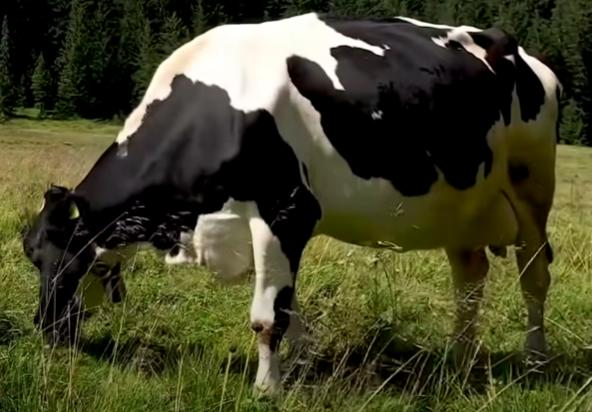cow: (21, 11, 564, 394)
